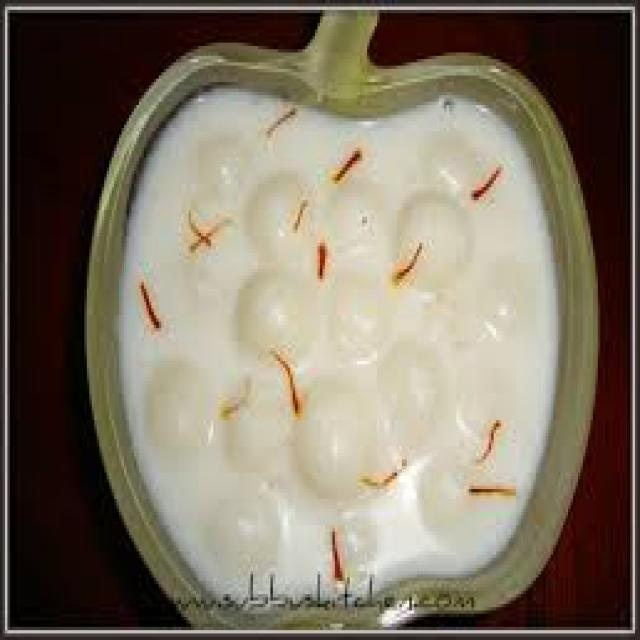paal kolukattai: (109, 89, 563, 572)
